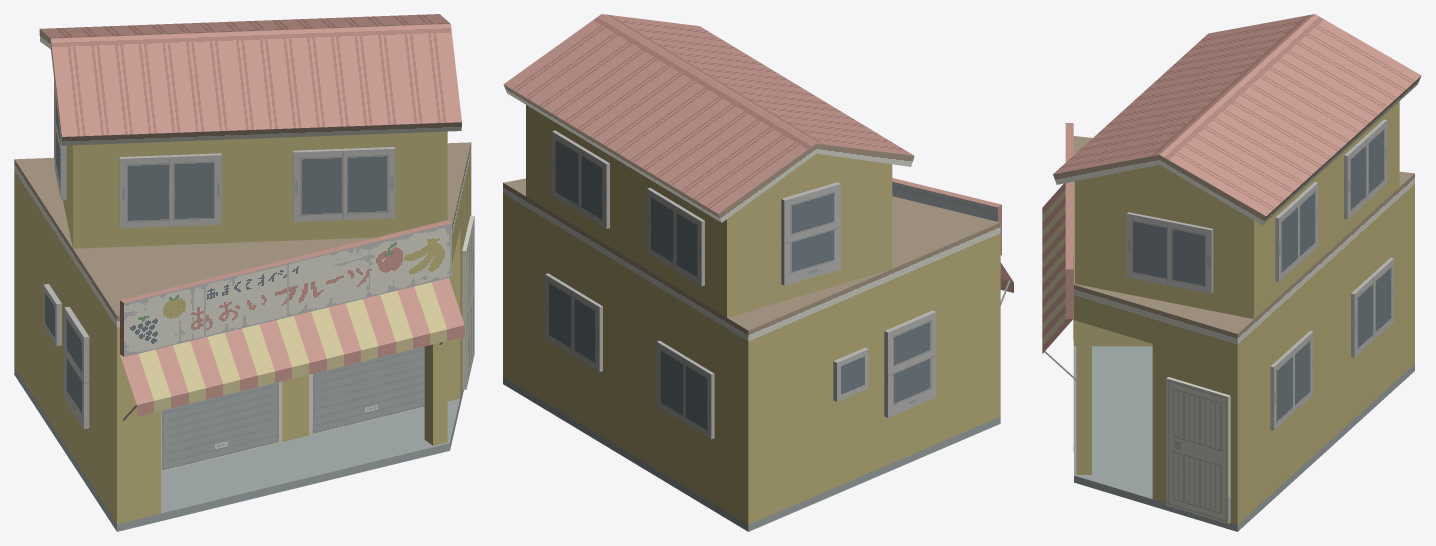
Rendered from 0425_Fruit_Shop.glb.
3 renders of one model, left to right at view 1: azimuth 30°, elevation 25°; view 2: azimuth 150°, elevation 25°; view 3: azimuth 270°, elevation 25°, orthographic. The views are drawn at different scales.
Parts seen in each view (by area): view 1: part_0; view 2: part_0; view 3: part_0.
Part boxes in pixels (x1,y1,x2,y2): part_0: [14, 14, 474, 531]; part_0: [503, 14, 1013, 531]; part_0: [1042, 14, 1421, 531].
Bounding box in the file's own units: 6.02 × 4.94 × 4.87.
Materials: 1 (1 with a texture image).
